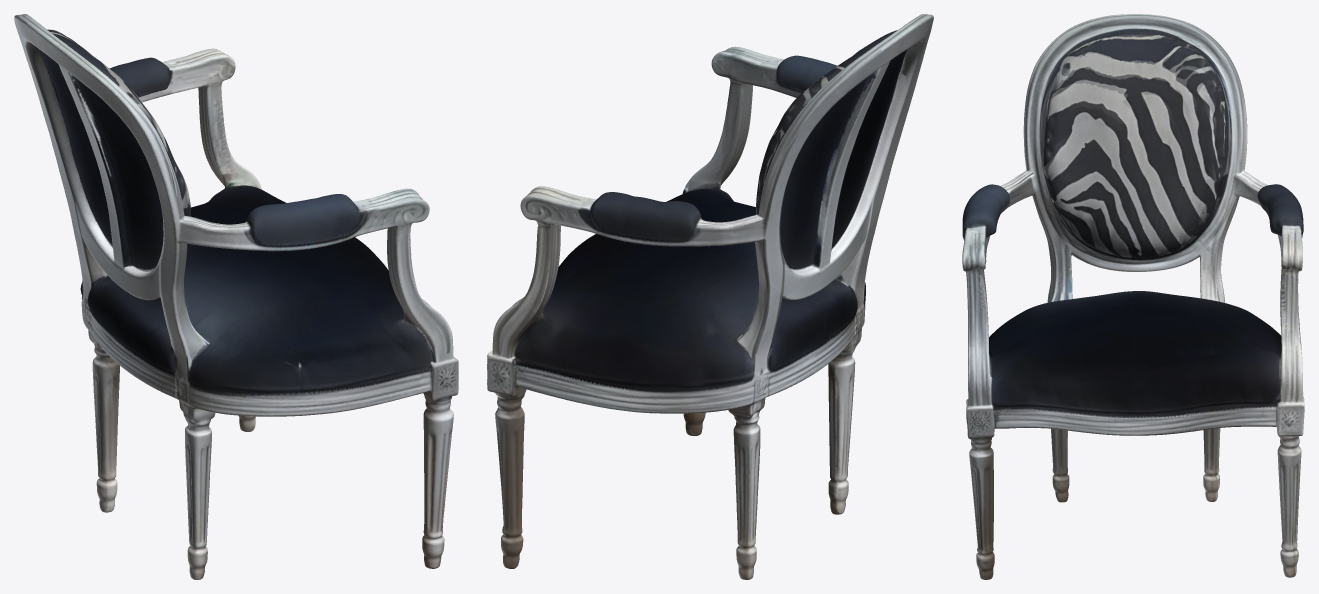
The model's file is zebre.glb.
3 renders of one model, left to right at view 1: azimuth 30°, elevation 25°; view 2: azimuth 150°, elevation 25°; view 3: azimuth 270°, elevation 25°, orthographic. The views are drawn at different scales.
Parts seen in each view (by area): view 1: tripo_node_a0d39a1b-4dfc-4928-a0b7-761cddee3672; view 2: tripo_node_a0d39a1b-4dfc-4928-a0b7-761cddee3672; view 3: tripo_node_a0d39a1b-4dfc-4928-a0b7-761cddee3672.
Boxes of the visible parts, <box> form: tripo_node_a0d39a1b-4dfc-4928-a0b7-761cddee3672: <box>14,14,458,579</box>; tripo_node_a0d39a1b-4dfc-4928-a0b7-761cddee3672: <box>487,14,933,579</box>; tripo_node_a0d39a1b-4dfc-4928-a0b7-761cddee3672: <box>962,14,1304,579</box>.
Bounding box in the file's own units: 0.6457 × 1 × 0.6991.
1 material, 1 textured.
